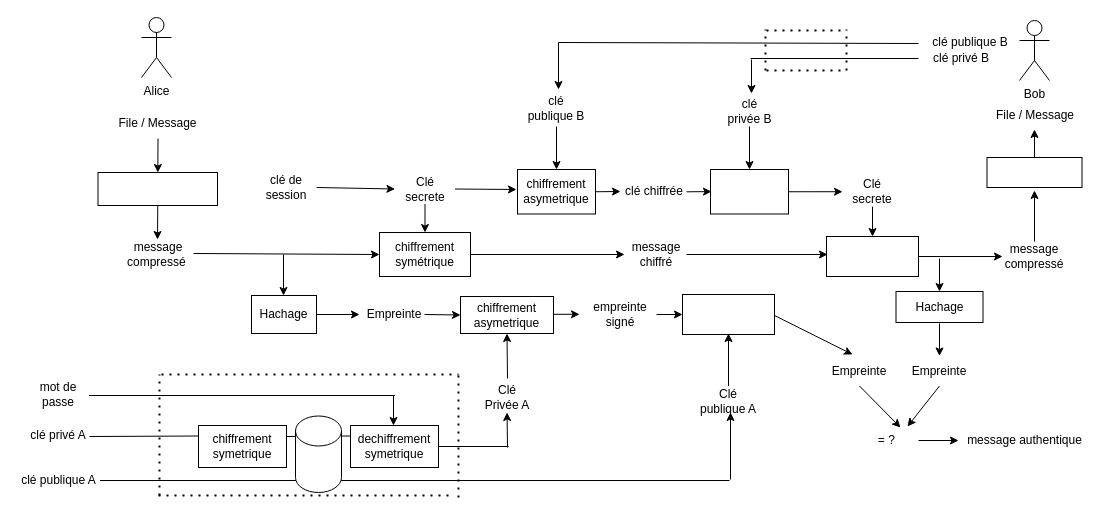
Some shapes in this 1108 by 517 pixel diagram are drawn without their labels. The centre of each missing label's shape, as x and y in pixels:
"compression" goes at (x=157, y=189).
"dechiffrement asymetrique" goes at (x=749, y=191).
"déchiffrement asymetrique" goes at (x=728, y=314).
"déchiffrement symetrique" goes at (x=872, y=256).
"décompression" goes at (x=1034, y=172).
